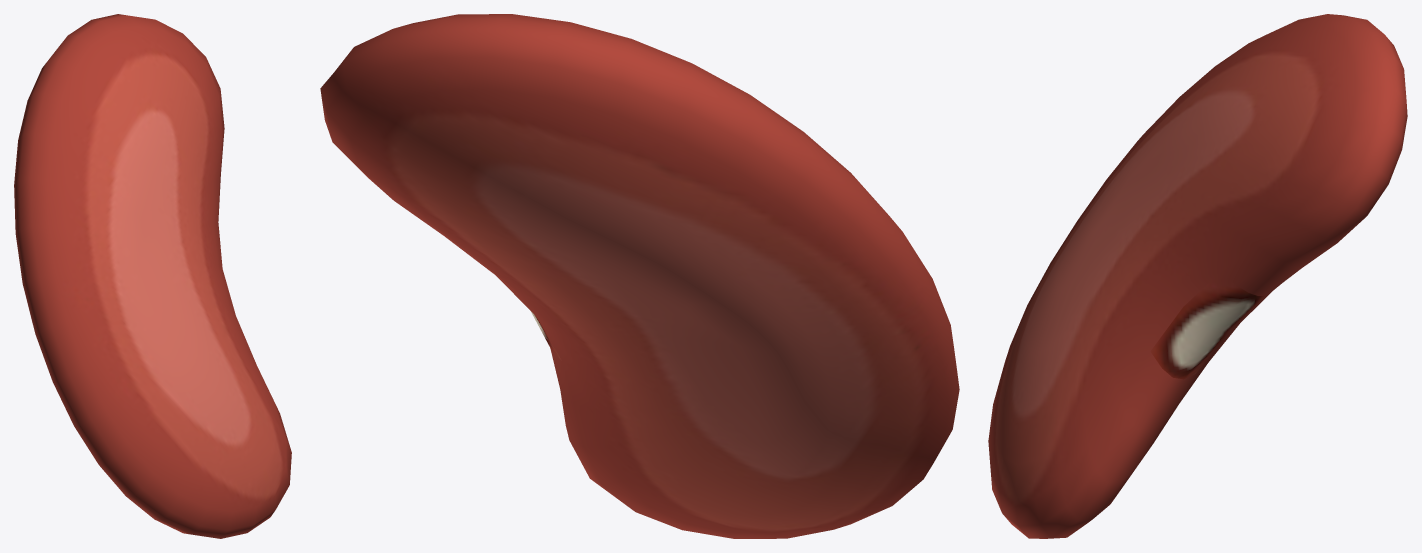
The model's file is bean-v3.fbx.
3 views of the same model, side by side, from view 1: azimuth 30°, elevation 25°; view 2: azimuth 150°, elevation 25°; view 3: azimuth 270°, elevation 25° (orthographic). The views are drawn at different scales.
Parts seen in each view (by area): view 1: bean; view 2: bean; view 3: bean.
Part boxes in pixels (x1,y1,x2,y2): bean: [14, 14, 291, 538]; bean: [320, 14, 959, 538]; bean: [988, 14, 1407, 538].
Bounding box in the file's own units: 114 × 165 × 127.
